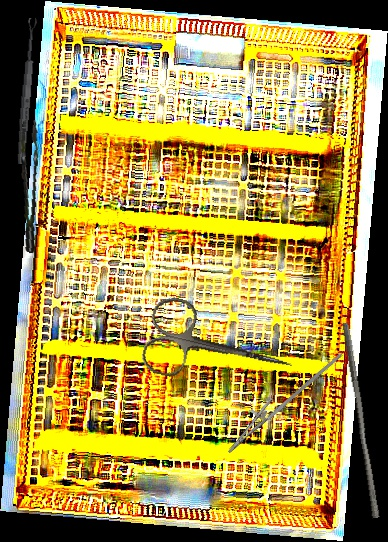Iris Scissors: (138, 293, 302, 405)
Needle Holder: (219, 333, 343, 466)
Pusher: (334, 322, 387, 519)
Surgical Spoon: (15, 17, 39, 165)
Tissue Forceps: (7, 118, 50, 254)
